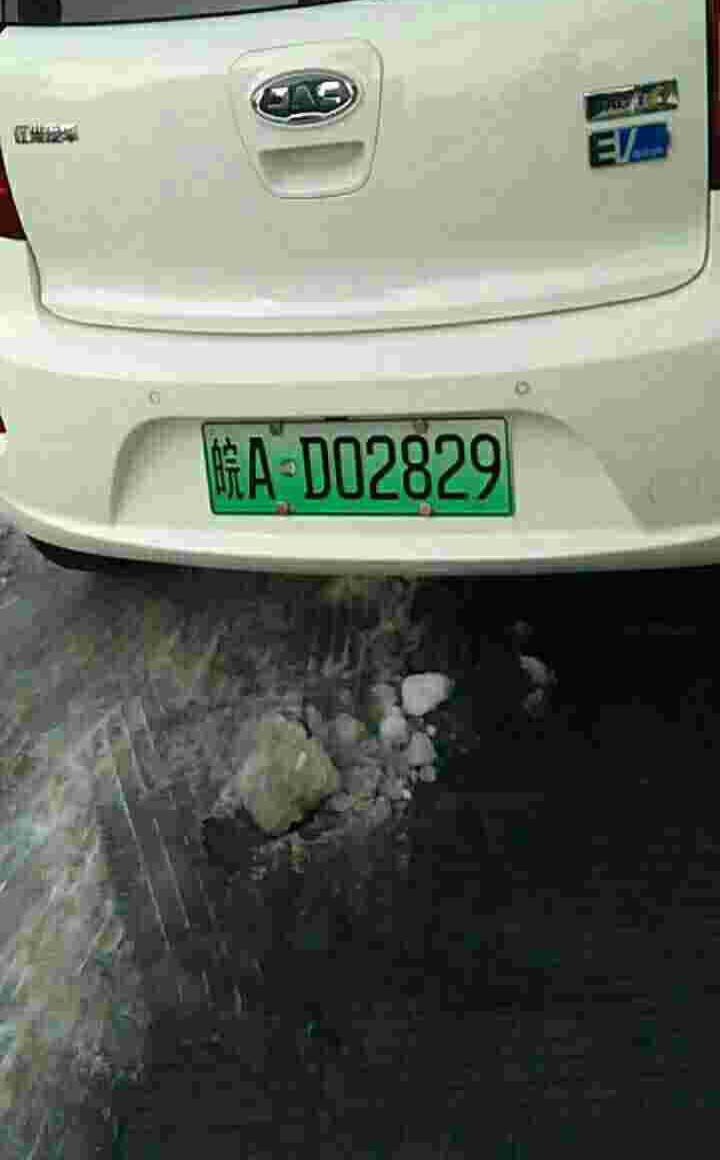car: (199, 421, 513, 521)
